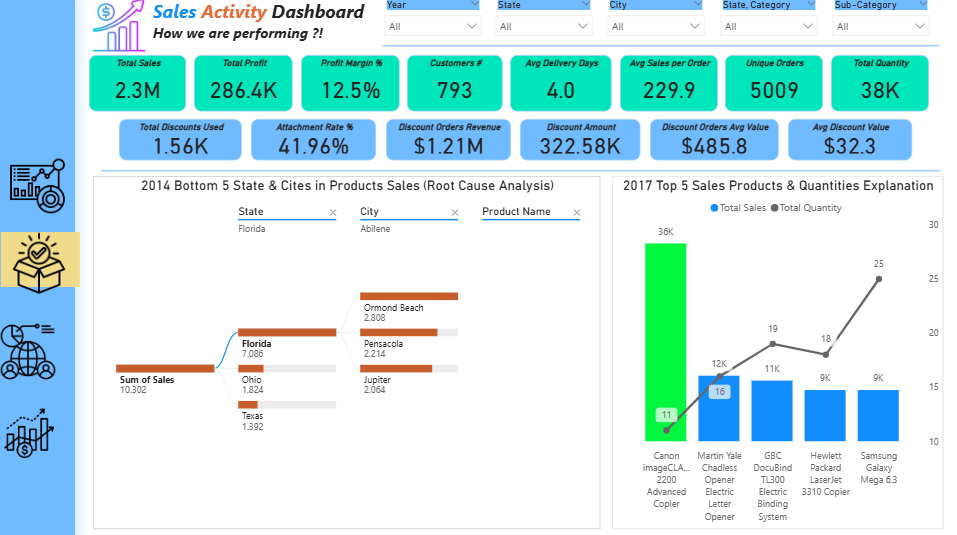

The page's visual inventory and layout, read from the dashboard file:
{"tool":"powerbi","page":{"name":"Products Analysis (Root Cause Analysis)","canvas":[1280,720],"ordinal":1},"visuals":[{"type":"shape","box":[0,0,105.3,720],"z":0},{"type":"decompositionTreeVisual","title":"2022 Bottom 5 Countries & Cites in Products Sales (Root Cause Analysis)","fields":{"Analyze":["Sum(Fact - Sales.Sales (After Discount))"],"ExplainBy":["Dim - Country.Country","Dim - City.City","Dim - Product.Product Name"]},"box":[129.3,240.2,673.6,468.7],"z":1000},{"type":"slicer","fields":{"Values":["Dim - Country.Country"]},"box":[660.5,-0.3,154,62.5],"z":2000,"group":"g2"},{"type":"image","box":[8.5,123.9,88.9,84.2],"z":2000},{"type":"card","title":"Total Sales","fields":{"Values":["_Key Measures.01. Total Sales"]},"box":[127.5,100.6,135.1,79.8],"z":3000,"group":"g2"},{"type":"lineStackedColumnComboChart","title":"2025 Top 5 Sales Products & Quantities Explanation","fields":{"Category":["Dim - Product.Product Name"],"Y2":["Sum(Fact - Sales.Quantity)"],"Y":["Sum(Fact - Sales.Sales (After Discount))"]},"box":[818.1,240.2,440.1,468.7],"z":3000},{"type":"slicer","fields":{"Values":["_Dim - Calendar._Dim Calendar Hierarchy.Year"]},"box":[507.9,-0.3,153.7,62.5],"z":4000,"group":"g2"},{"type":"image","box":[8.5,559,88.9,77.8],"z":4000},{"type":"image","box":[10.1,414.5,85.8,88.9],"z":5000},{"type":"group","id":"g1","title":"Group 3","box":[0,252.1,109.6,127],"z":6000},{"type":"group","id":"g2","title":"Group 1","box":[122.6,-0.3,1157.4,209.5],"z":7000},{"type":"slicer","fields":{"Values":["Dim - City.City"]},"box":[814.5,-0.3,154,61.3],"z":7000,"group":"g2"},{"type":"image","box":[4.8,252.1,104.8,127],"z":8750,"group":"g1"},{"type":"slicer","fields":{"Values":["Dim - Sub-Category.Sub-Category"]},"box":[1122.5,-0.3,154,61.3],"z":9000,"group":"g2"},{"type":"textbox","box":[203.5,2.5,304.9,84.2],"z":10000,"group":"g2"},{"type":"slicer","fields":{"Values":["Dim - Category.Category"]},"box":[968.5,-0.3,154,61.3],"z":12000,"group":"g2"},{"type":"image","box":[122.6,2.5,80.9,86],"z":13000,"group":"g2"},{"type":"image","box":[0,262.1,92.6,98.5],"z":14500,"group":"g1"},{"type":"card","title":"Total Cost","fields":{"Values":["_Key Measures.02. Cost of Goods Sold (COGS)"]},"box":[268.8,100.6,138.2,80.3],"z":16000,"group":"g2"},{"type":"shape","box":[124.6,195.7,1138.3,13.4],"z":17000,"group":"g2"},{"type":"shape","box":[507,74.7,773,15],"z":19000,"group":"g2"},{"type":"card","title":"Net Profit","fields":{"Values":["_Key Measures.03. Net Profit Value"]},"box":[413.1,100.6,136.6,80.3],"z":21000,"group":"g2"},{"type":"card","title":"Total Quantity","fields":{"Values":["_Key Measures.10 Total Quantity"]},"box":[1126.9,100.6,136.6,80.3],"z":23000,"group":"g2"},{"type":"card","title":"Transaction AVG.","fields":{"Values":["_Key Measures.09. Transaction Avg"]},"box":[985.6,100.6,135.1,80.3],"z":24000,"group":"g2"},{"type":"card","title":"Gross Margin %","fields":{"Values":["_Key Measures.04. Gross Margin % (GM %)"]},"box":[555.8,100.6,133.5,80.3],"z":25000,"group":"g2"},{"type":"card","title":"Customer #","fields":{"Values":["_Key Measures.06. Unique Customers"]},"box":[695.5,100.6,141.2,80.3],"z":26000,"group":"g2"},{"type":"card","title":"Unique Orders","fields":{"Values":["_Key Measures.08. Unique Orders"]},"box":[842.9,100.6,136.6,80.3],"z":27000,"group":"g2"}]}

Visuals, with their boxes on the page's 1280x720 design canvas (x1, y1, x2, y2). These are canvas units, not pixel positions in the 957x535 screenshot, which may show the page scaled, cropped or inside an application window:
shape: [0,0,105,720]
"2022 Bottom 5 Countries & Cites in Products Sales (Root Cause Analysis)" decompositionTreeVisual: [129,240,803,709]
slicer - Dim - Country.Country: [660,0,814,62]
image: [8,124,97,208]
"Total Sales" card: [128,101,263,180]
"2025 Top 5 Sales Products & Quantities Explanation" lineStackedColumnComboChart: [818,240,1258,709]
slicer - _Dim - Calendar._Dim Calendar Hierarchy.Year: [508,0,662,62]
image: [8,559,97,637]
image: [10,414,96,503]
"Group 3" group: [0,252,110,379]
"Group 1" group: [123,0,1280,209]
slicer - Dim - City.City: [814,0,968,61]
image: [5,252,110,379]
slicer - Dim - Sub-Category.Sub-Category: [1122,0,1276,61]
textbox: [204,2,508,87]
slicer - Dim - Category.Category: [968,0,1122,61]
image: [123,2,204,88]
image: [0,262,93,361]
"Total Cost" card: [269,101,407,181]
shape: [125,196,1263,209]
shape: [507,75,1280,90]
"Net Profit" card: [413,101,550,181]
"Total Quantity" card: [1127,101,1264,181]
"Transaction AVG." card: [986,101,1121,181]
"Gross Margin %" card: [556,101,689,181]
"Customer #" card: [696,101,837,181]
"Unique Orders" card: [843,101,980,181]
